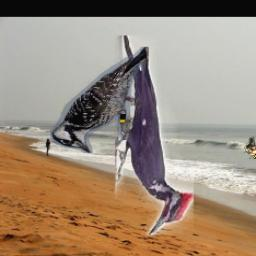Woodpecker: (115, 36, 194, 235), (50, 47, 149, 153), (244, 136, 256, 159)
